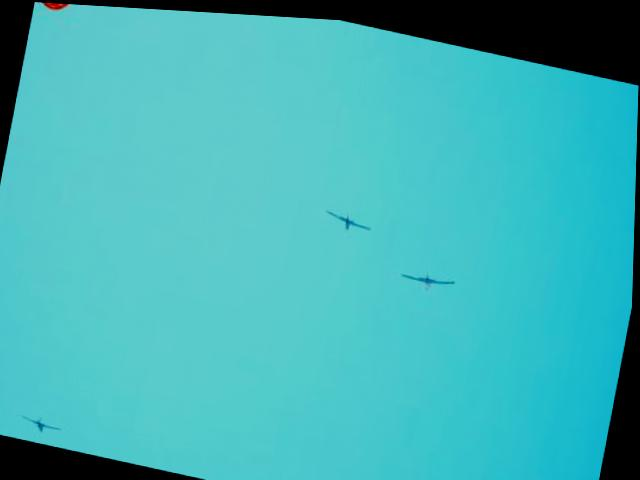uav: (399, 260, 458, 288), (326, 205, 375, 230), (22, 410, 66, 437)
